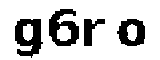6: (47, 6, 80, 49)
g: (10, 17, 44, 59)
o: (115, 17, 147, 49)
r: (82, 17, 107, 49)
